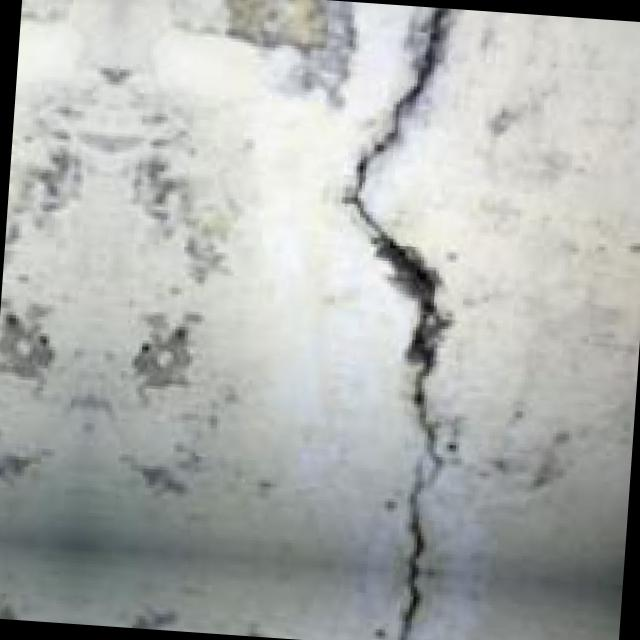crack: (260, 0, 550, 640)
